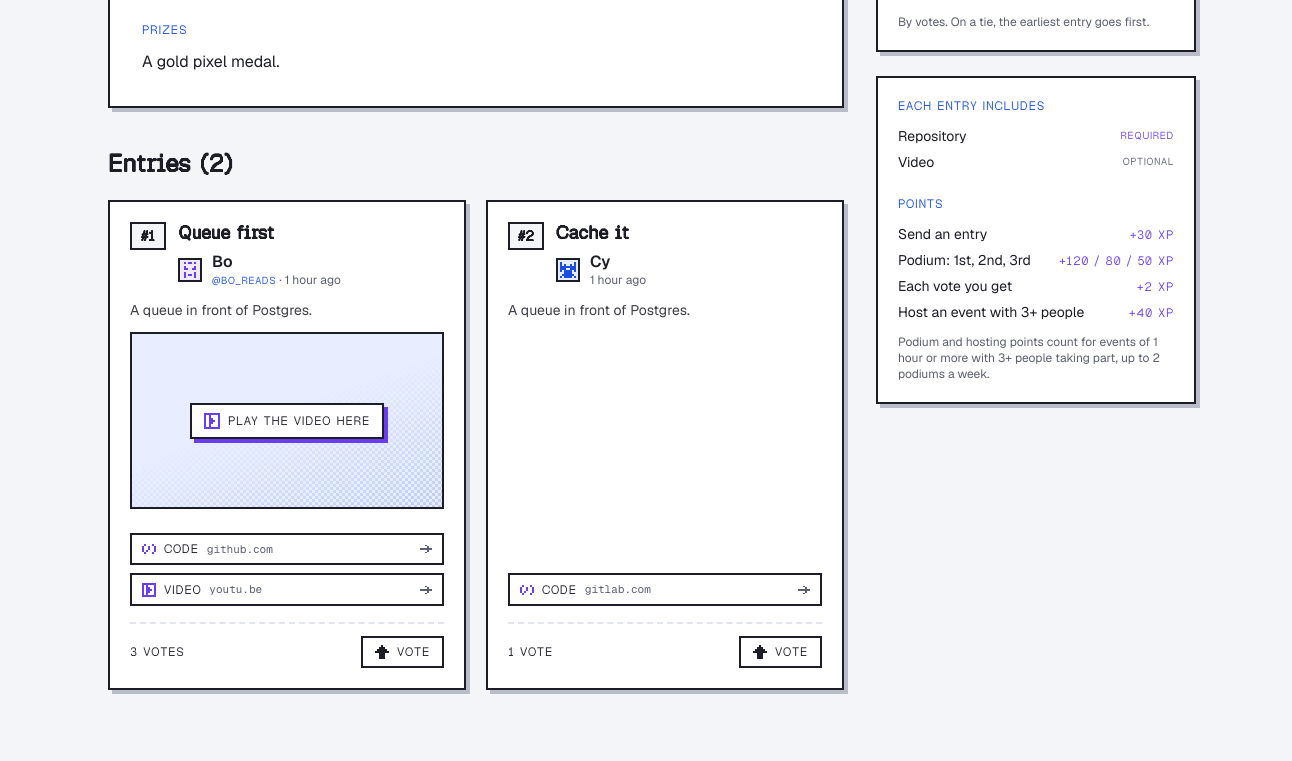
Test: shows the event and its entries safely to a signed-out visitor
(page scrolled)
Expected: the text "A gold pixel medal." is shown, 142,51 -> 280,72
Click the button "Play the video here": [287, 421] box 130,332 -> 444,509
(page scrolled)
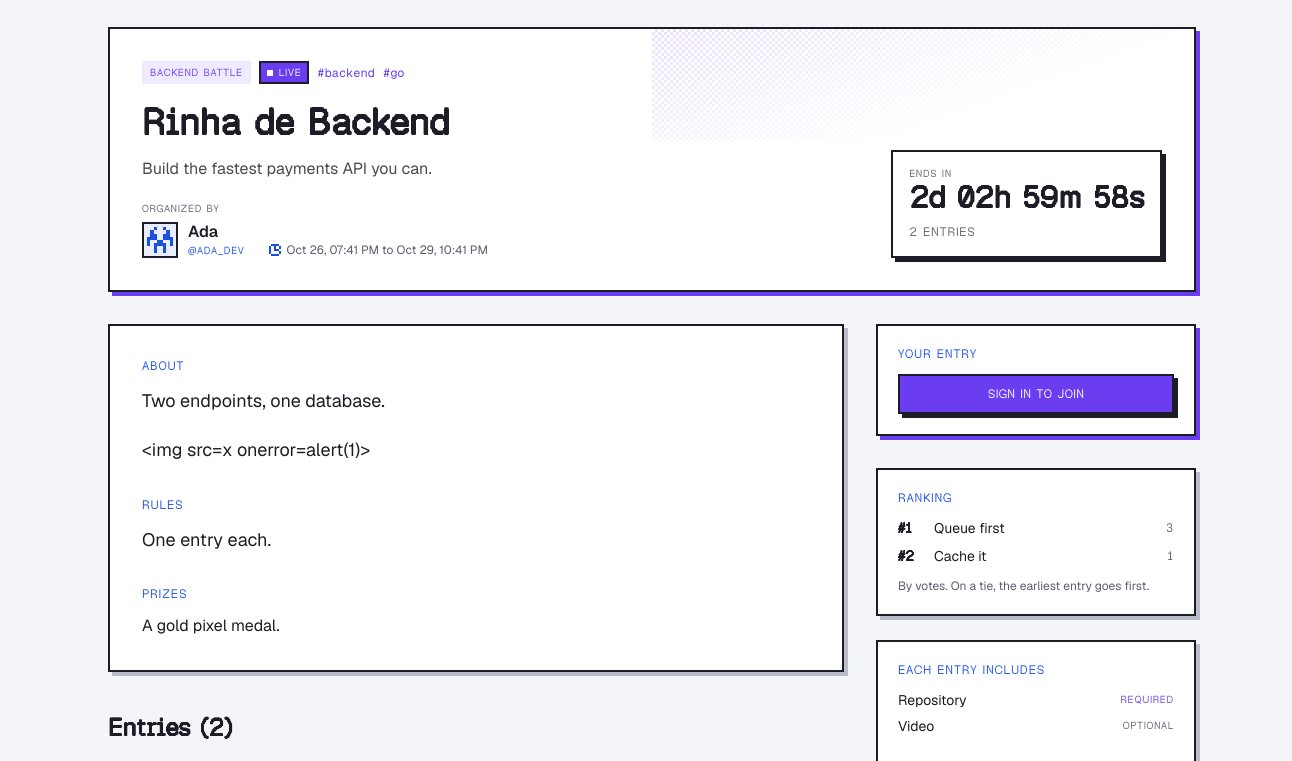
Expected: the list items read "#1Queue first3", "#2Cache it1", in this order, 898,518 -> 1174,538; 898,546 -> 1174,566
